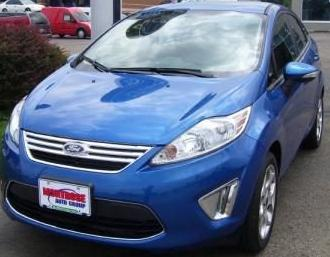front_view: (13, 94, 263, 241)
headlight: (151, 104, 264, 172)
side_glass: (248, 12, 311, 82)
